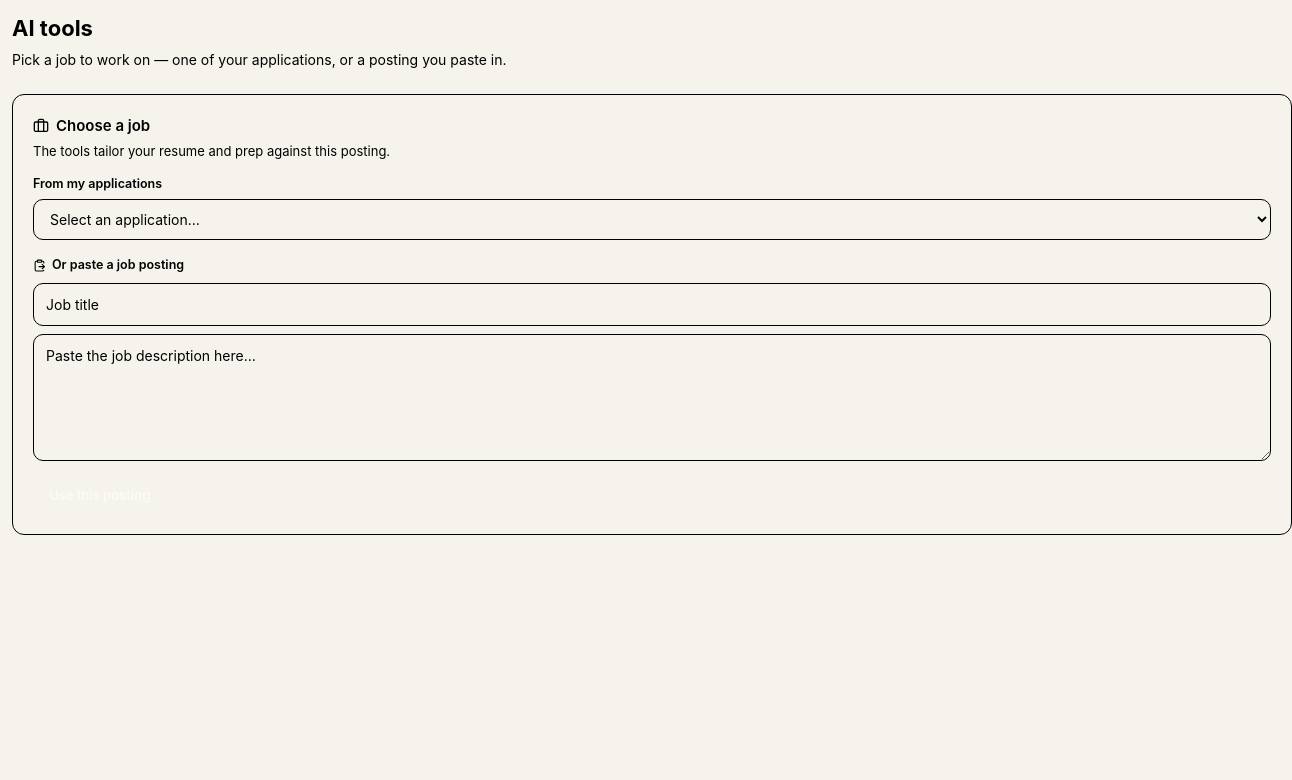
Scenario: PortalAiToolsPage › hydrates context from an existing application via the public posting
The width and height of the screenshot is (1292, 780).
Select "Senior PM" in the dropdown labelled "From my applications": [652, 219] box x1=33 y1=199 x2=1271 y2=240
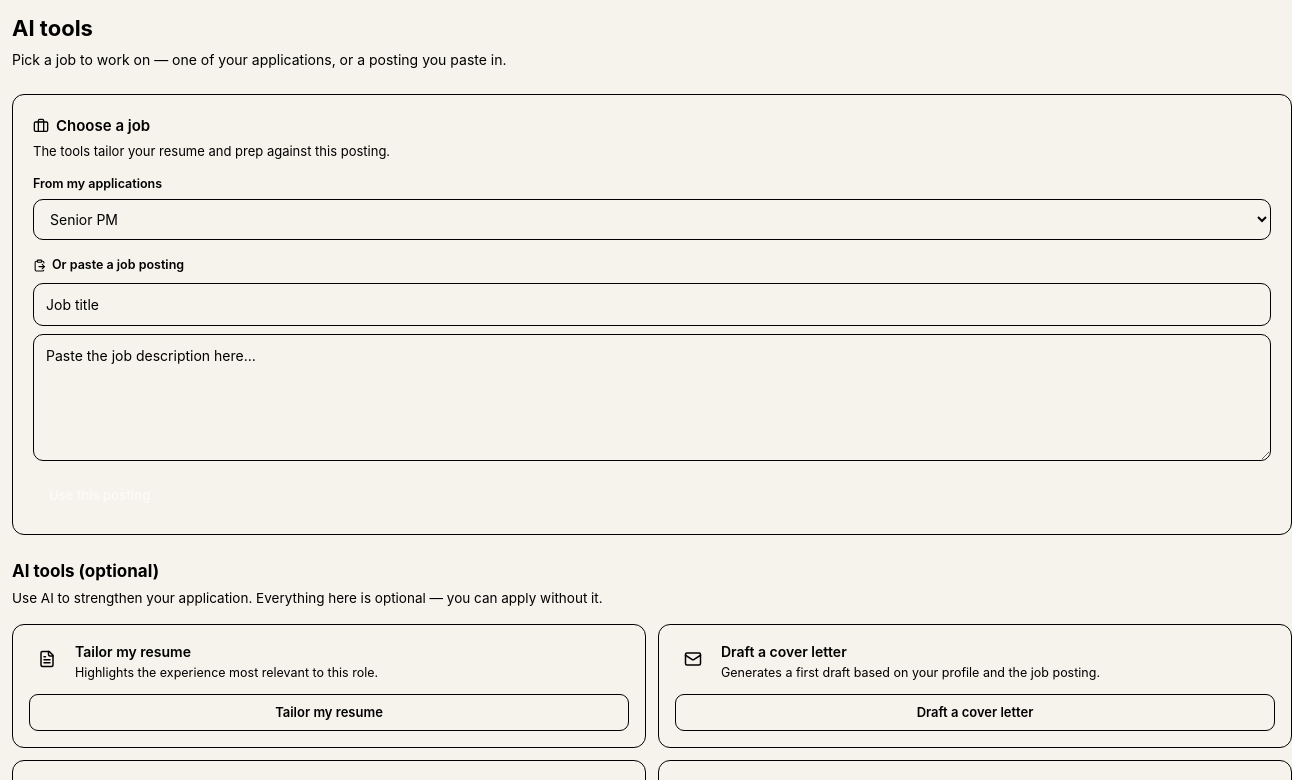
Expected: the heading "Tailor my resume" is shown, x1=75 y1=643 x2=191 y2=660
